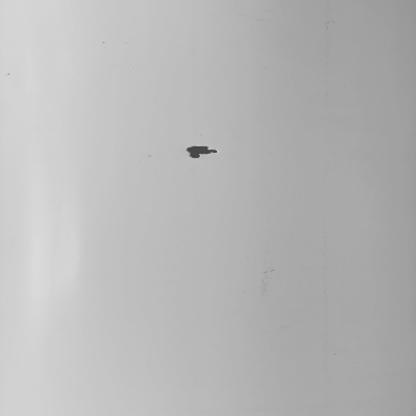kongdong: (179, 137, 221, 166)
